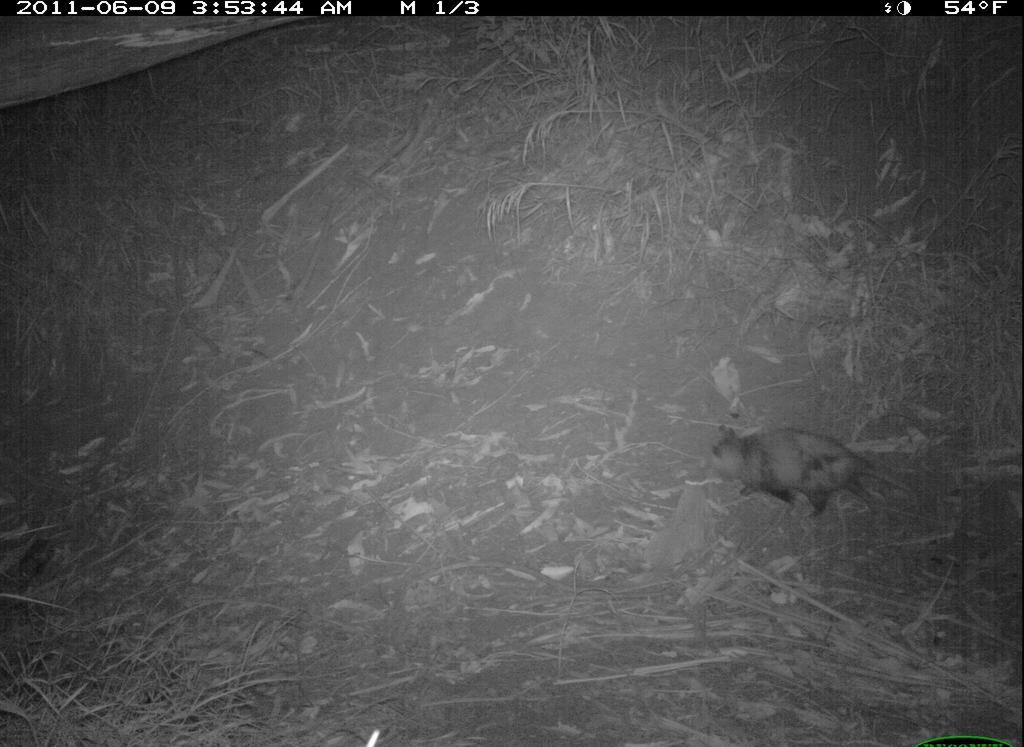opossum: (685, 409, 943, 532)
